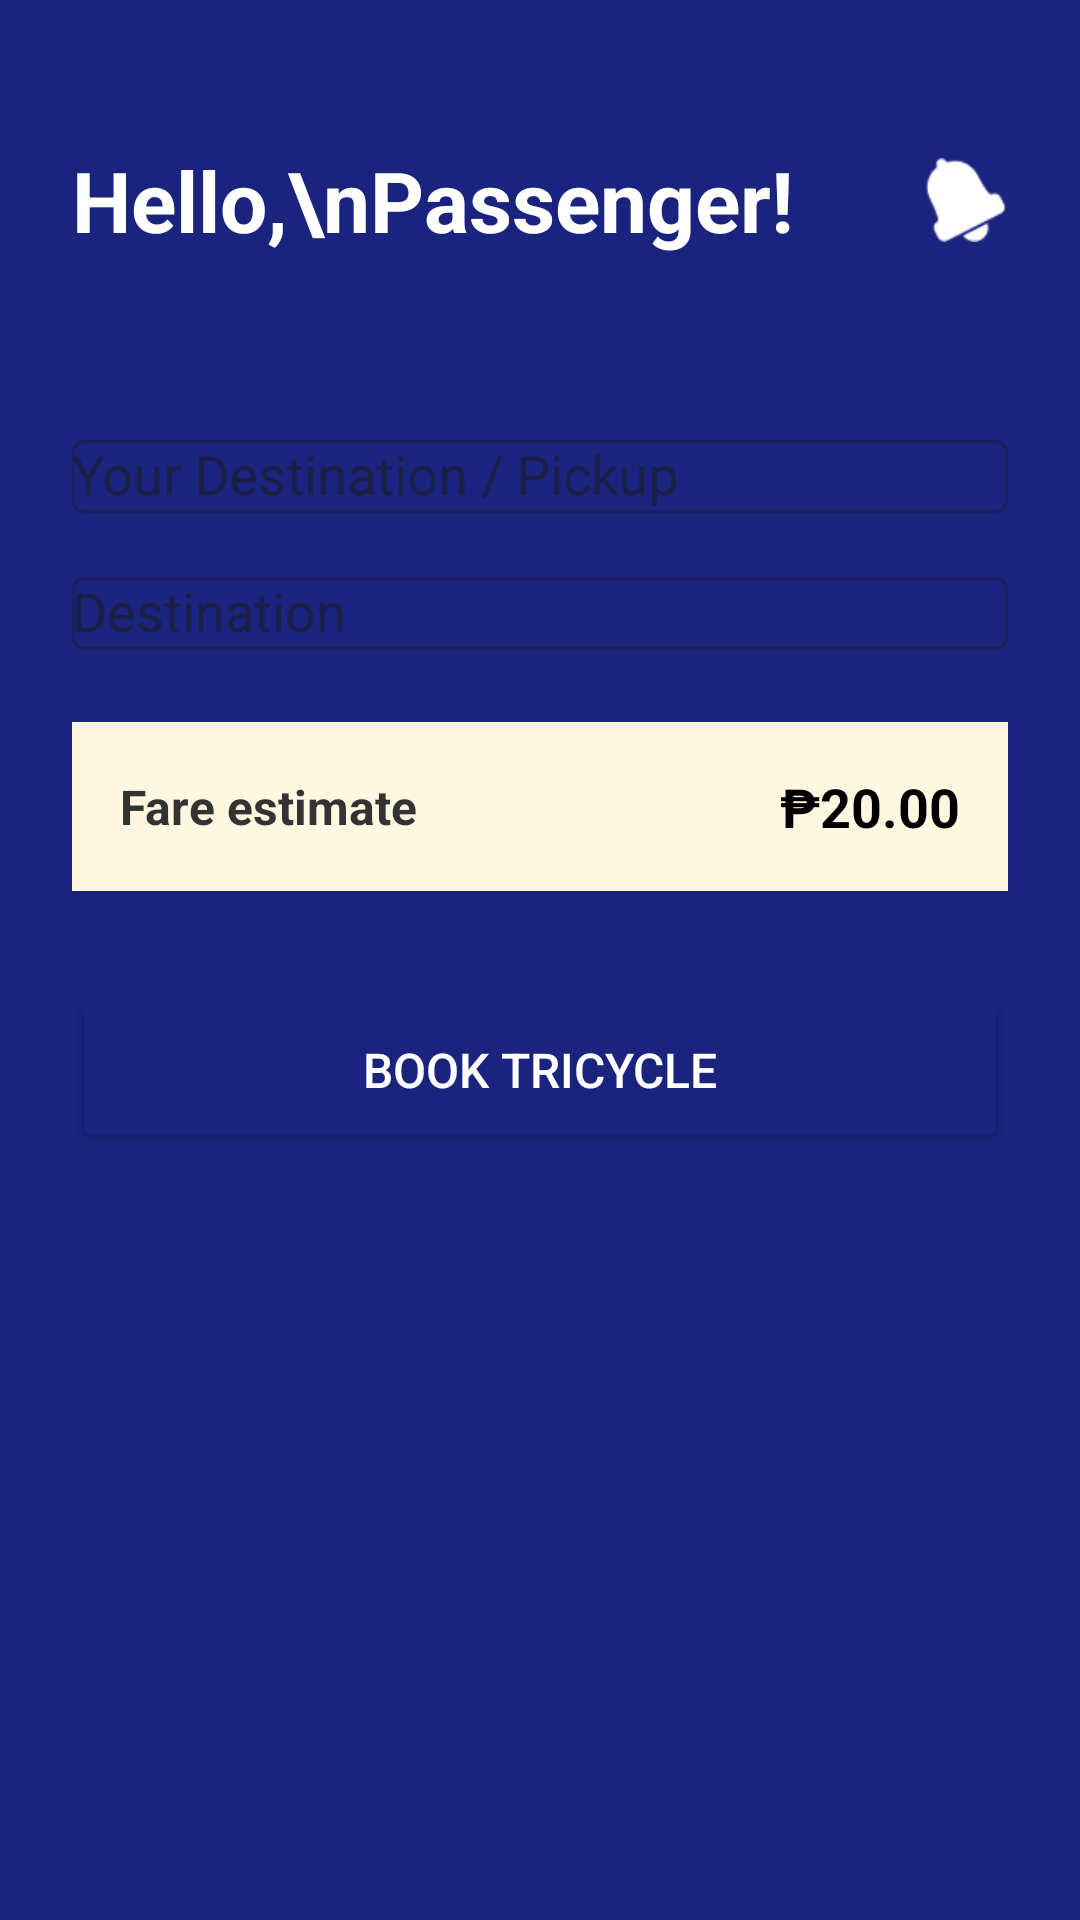

Named icons in this screenshot (1080px x 1920px) and their bounding boxes, (x1, y1, x2, y2):
popup reminder: (926, 158, 1006, 242)
